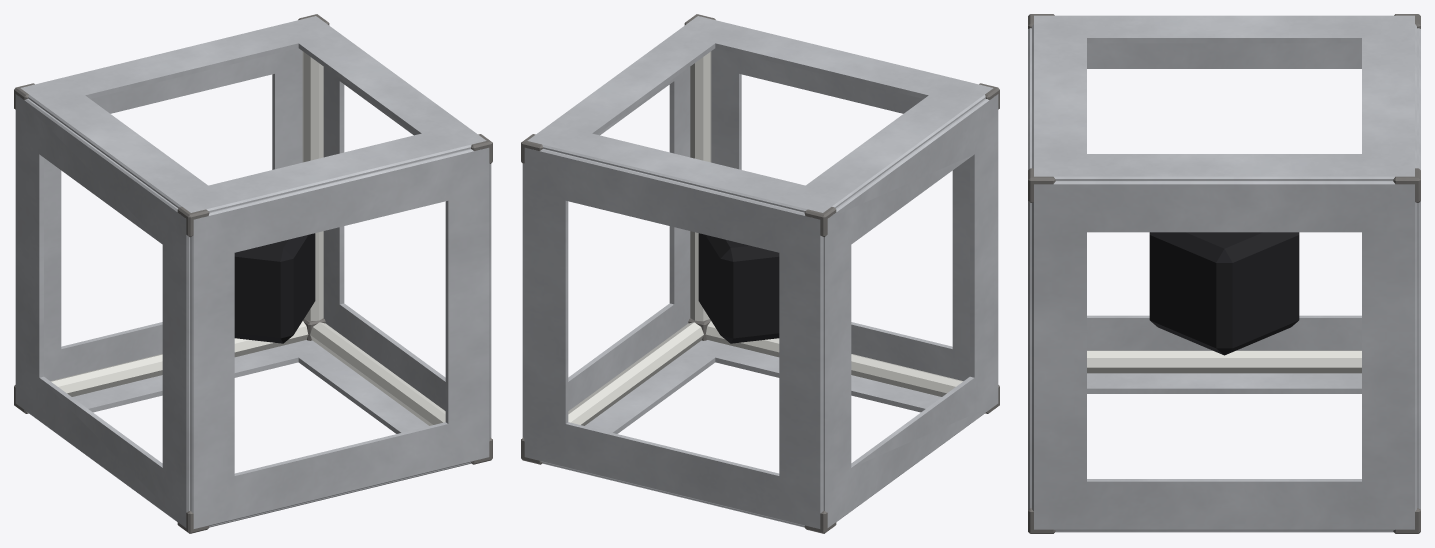
Rendered from ax_gear_10_truss_junction_m.glb.
3 renders of one model, left to right at view 1: azimuth 30°, elevation 25°; view 2: azimuth 150°, elevation 25°; view 3: azimuth 270°, elevation 25°, orthographic. The views are drawn at different scales.
Visible parts, largest first — view 1: face_frames, cube_edges, core_hub, corner_blocks; view 2: face_frames, cube_edges, core_hub, corner_blocks; view 3: face_frames, core_hub, cube_edges, corner_blocks.
Boxes of the visible parts, x1=… form: face_frames: x1=15, y1=16, x2=491, y2=528; cube_edges: x1=50, y1=51, x2=445, y2=425; core_hub: x1=234, y1=233, x2=315, y2=343; corner_blocks: x1=14, y1=14, x2=492, y2=533; face_frames: x1=522, y1=16, x2=998, y2=528; cube_edges: x1=568, y1=51, x2=963, y2=425; core_hub: x1=698, y1=233, x2=779, y2=343; corner_blocks: x1=521, y1=14, x2=999, y2=533; face_frames: x1=1028, y1=15, x2=1420, y2=532; core_hub: x1=1149, y1=232, x2=1299, y2=355; cube_edges: x1=1087, y1=350, x2=1361, y2=373; corner_blocks: x1=1028, y1=14, x2=1420, y2=533.
Bounding box in the file's own units: 2 × 2 × 2.
4 materials, 2 textured.
